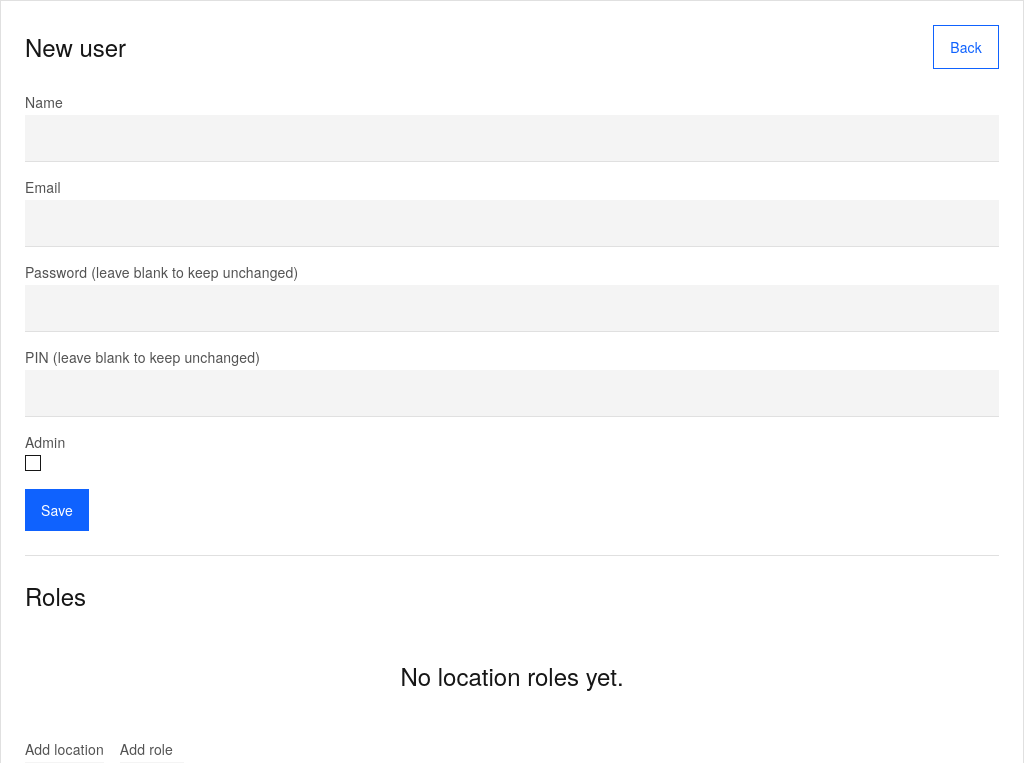
Test: UserEditor › blocks create with neither email nor PIN, mirroring the server 400 as client-side UX
The image size is (1024, 763).
Type "New Hire" into the field labelled "Name" at (512, 139), box [25, 115, 999, 162]
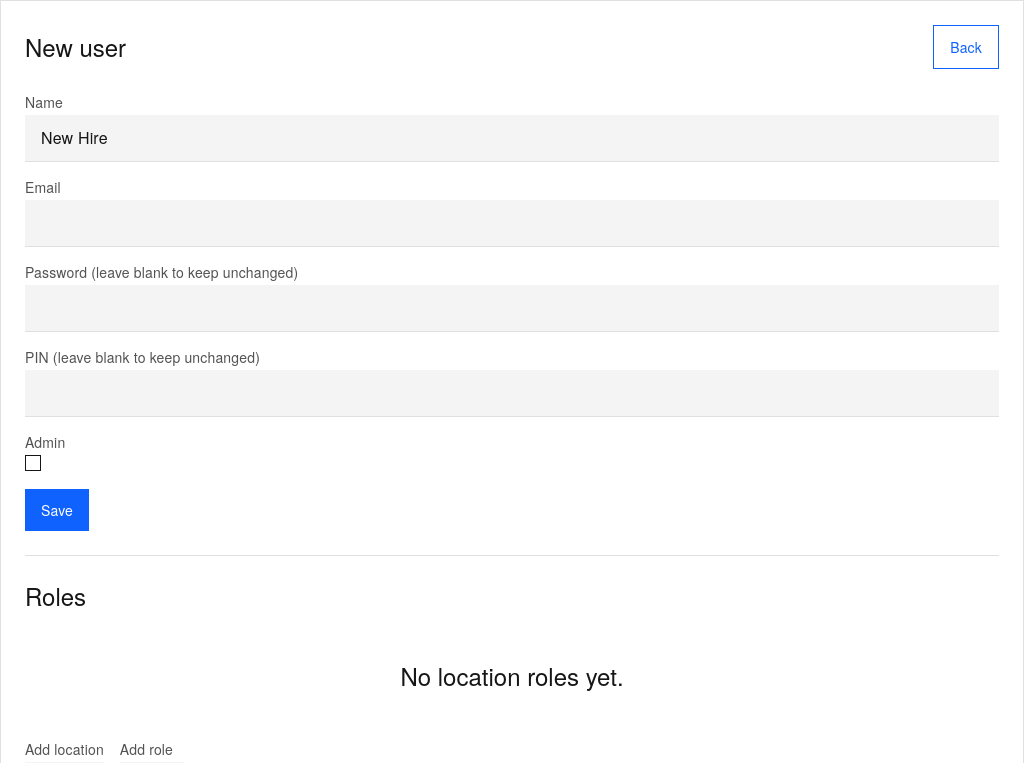
Click the button "Save" at (57, 510), box [25, 489, 89, 531]
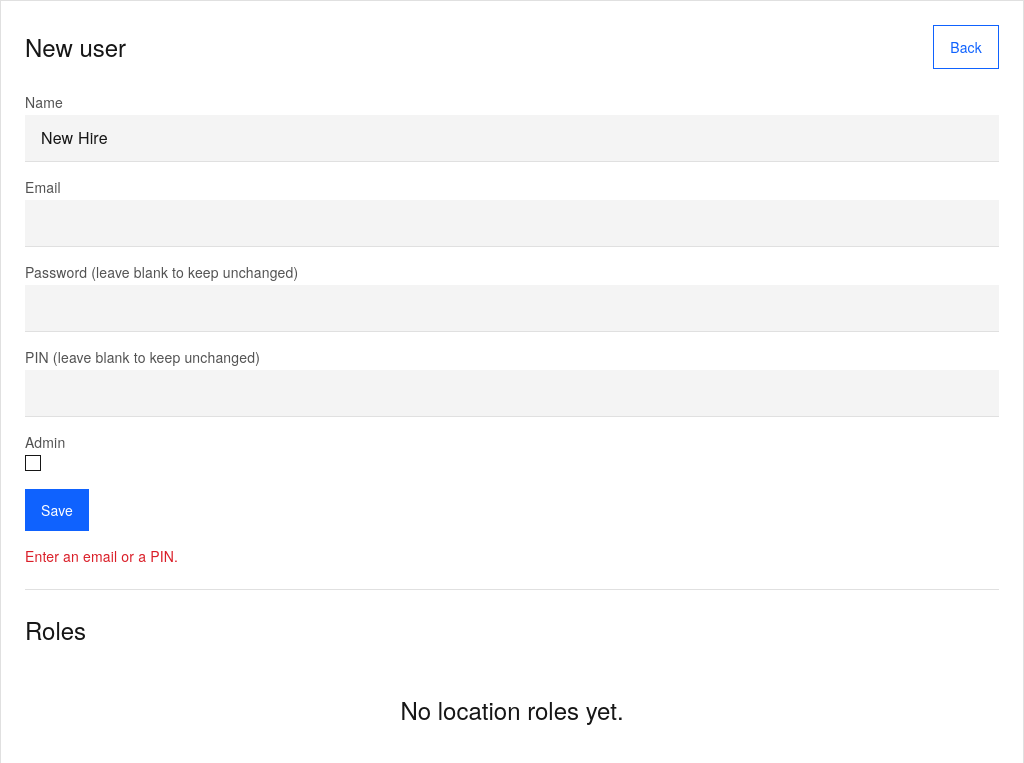
Now the text "Enter an email or a PIN." is shown, box [25, 546, 178, 566]
